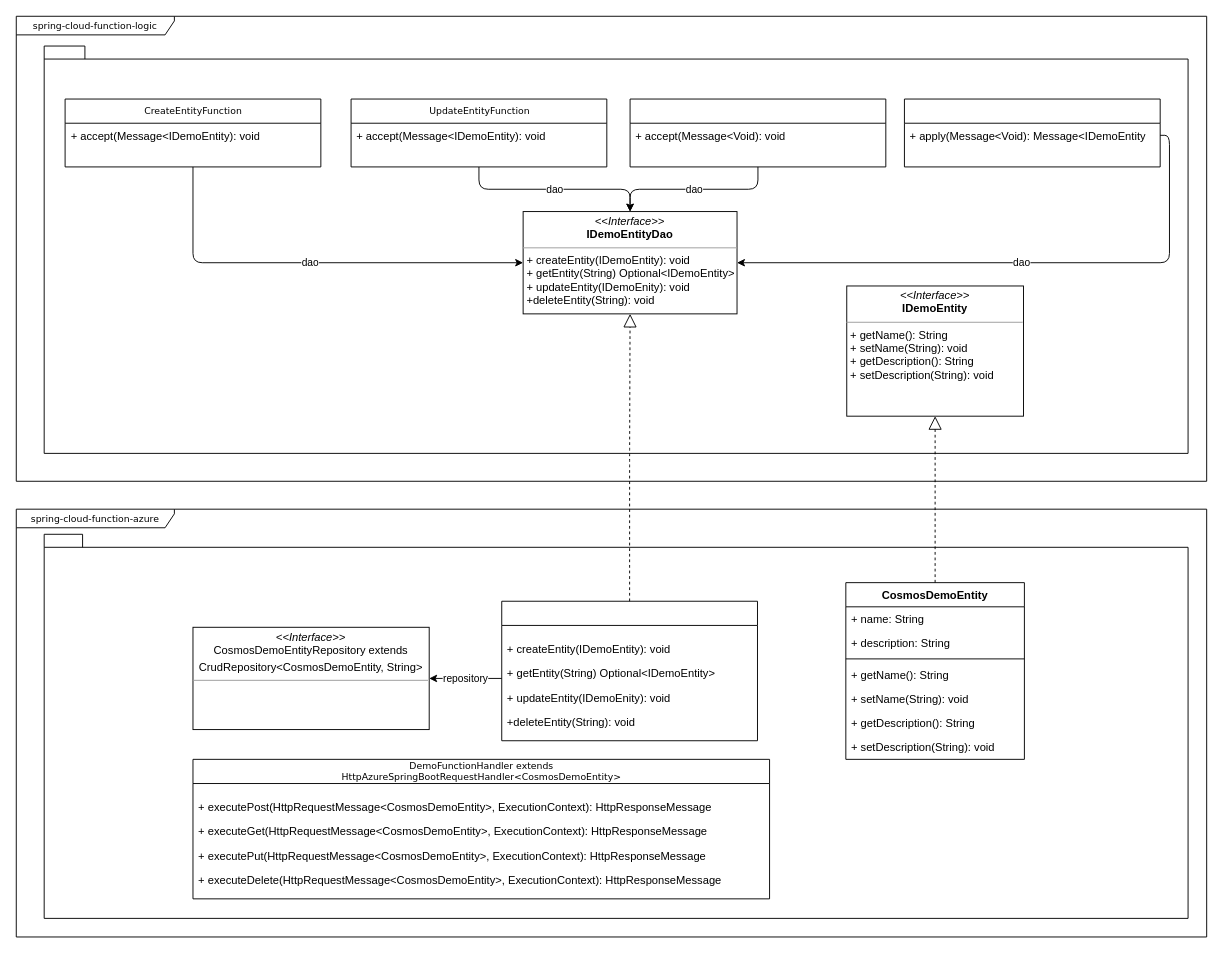
Image size: 1223x953. Some labels were removed from this diagram. Each missing label, with the box of its shape:
CosmosDemoEntityDao: (501, 600, 757, 741)
de.margul.awstutorials.springcloudfunction.azure: (43, 533, 1188, 918)
de.margul.awstutorials.springcloudfunction.logic: (43, 45, 1188, 453)
DeleteEntityFunction: (629, 98, 886, 167)
GetEntityFunction: (903, 98, 1160, 167)
